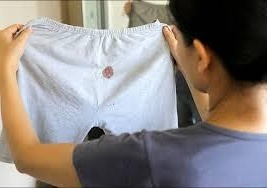blood: (101, 65, 114, 80)
